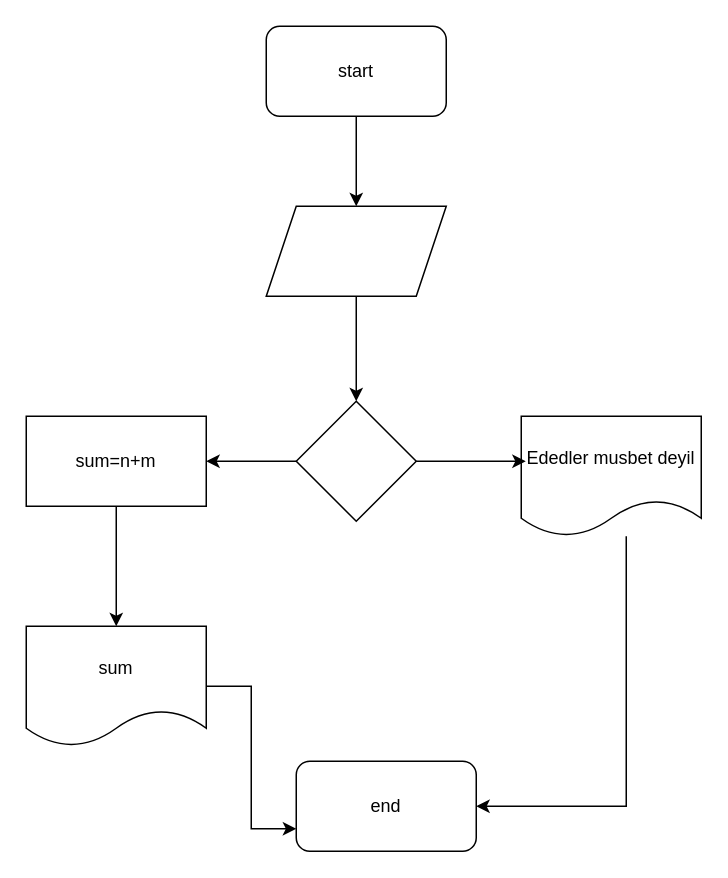
Image size: 728x878. Some labels were removed from this diagram. Each missing label, with the centre of its shape:
int n int m: pixel 355 250
n>0 && m>0: pixel 355 460
